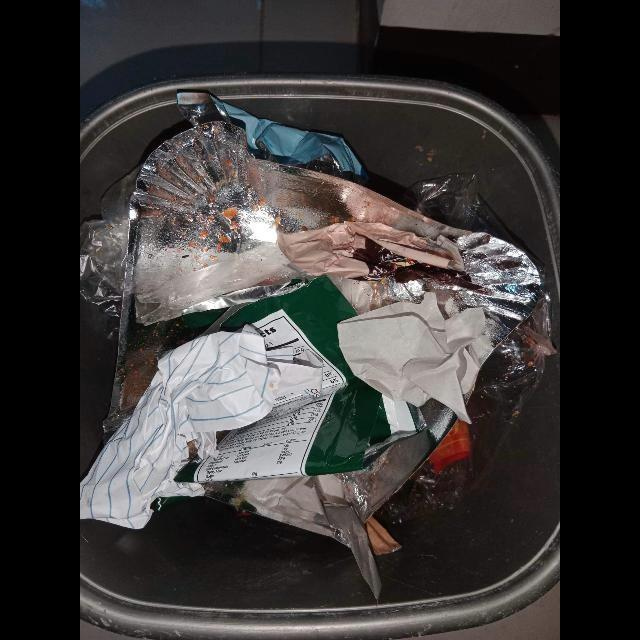food_wrapper: (182, 275, 418, 484)
paper: (80, 324, 323, 530), (336, 292, 493, 425), (278, 221, 465, 278)
plastic_bag: (80, 165, 141, 317)
